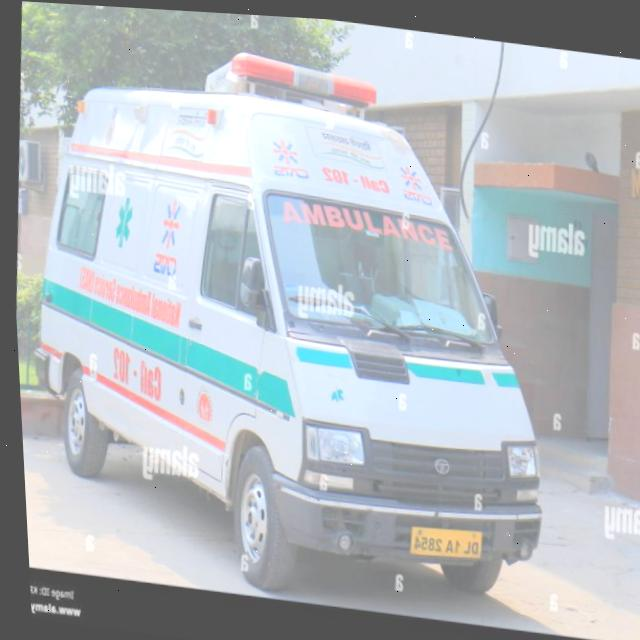emergency: (183, 25, 578, 618)
